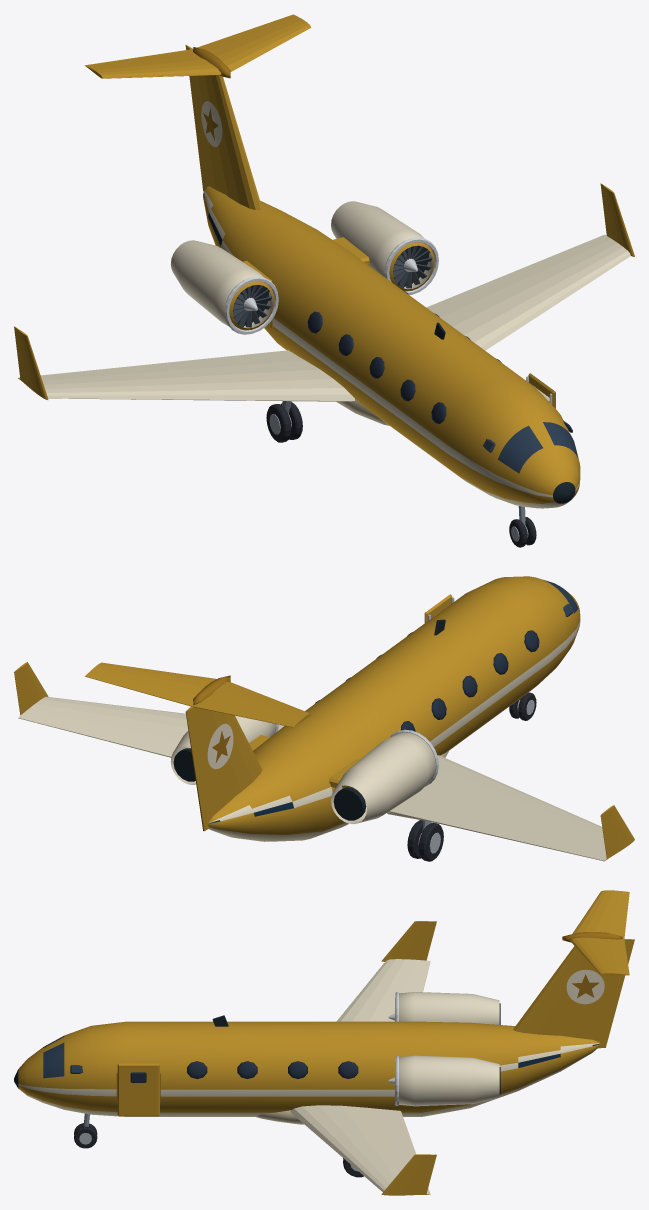
File: skyport-private.glb
3 views of the same model, one above another, from view 1: azimuth 30°, elevation 25°; view 2: azimuth 150°, elevation 25°; view 3: azimuth 270°, elevation 25° (orthographic). The views are drawn at different scales.
Parts seen in each view (by area): view 1: sp_private_mesh, sp_private_wheel_r_mesh, sp_private_fanr_mesh, sp_private_fanl_mesh; view 2: sp_private_mesh, sp_private_wheel_r_mesh, sp_private_wheel_n_mesh; view 3: sp_private_mesh, sp_private_door_mesh, sp_private_wheel_n_mesh.
Part boxes in pixels (x1,y1,x2,y2): sp_private_mesh: (14, 14, 634, 508); sp_private_wheel_r_mesh: (266, 402, 302, 442); sp_private_fanr_mesh: (232, 285, 272, 327); sp_private_fanl_mesh: (393, 246, 432, 288); sp_private_mesh: (14, 576, 634, 861); sp_private_wheel_r_mesh: (407, 820, 443, 861); sp_private_wheel_n_mesh: (509, 692, 536, 720); sp_private_mesh: (14, 890, 634, 1195); sp_private_door_mesh: (117, 1063, 159, 1116); sp_private_wheel_n_mesh: (74, 1123, 97, 1148).
Bounding box in the file's own units: 10.47 × 4.46 × 11.7.
